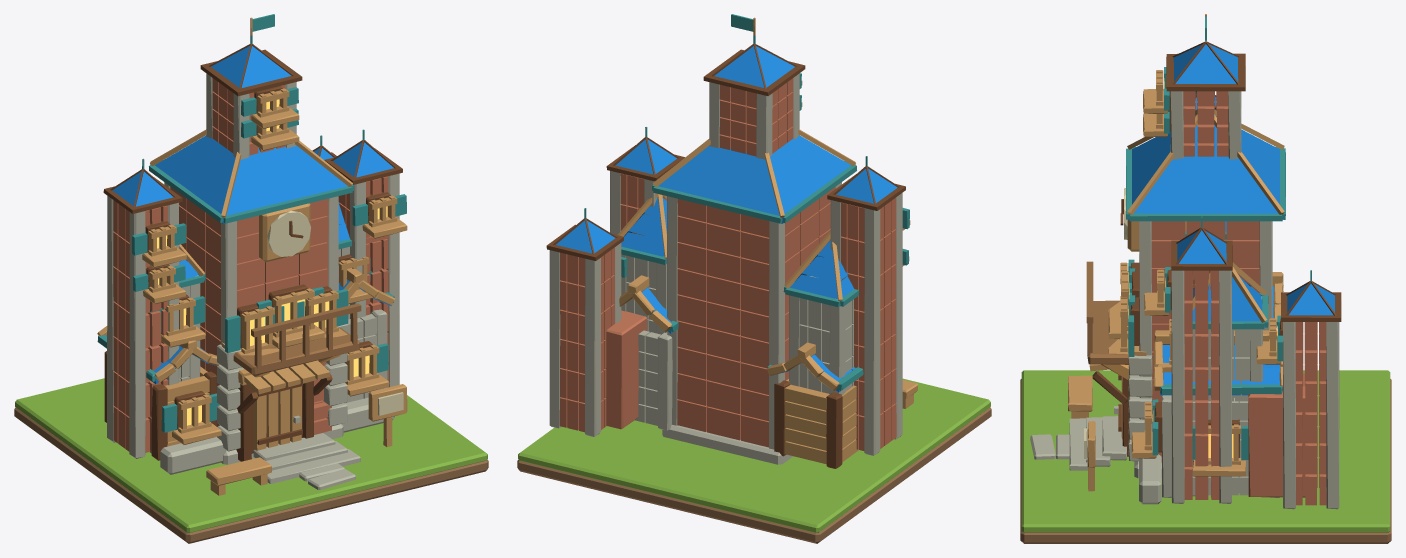
Rendered from town_hall_l12_active_LOD1.glb.
3 renders of one model, left to right at view 1: azimuth 30°, elevation 25°; view 2: azimuth 150°, elevation 25°; view 3: azimuth 270°, elevation 25°, orthographic. The views are drawn at different scales.
Visible parts, largest first — view 1: town_hall_l12_active_foundation.001, town_hall_l12_active_grass_tile.001, town_hall_l12_active_earth_tile.001, town_hall_l12_active_path_stone.005; view 2: town_hall_l12_active_foundation.001, town_hall_l12_active_grass_tile.001, town_hall_l12_active_earth_tile.001; view 3: town_hall_l12_active_foundation.001, town_hall_l12_active_grass_tile.001, town_hall_l12_active_earth_tile.001, town_hall_l12_active_path_stone.005.
Boxes of the visible parts, box(x1,y1,x2,y2) form: town_hall_l12_active_foundation.001: box(97, 14, 407, 495); town_hall_l12_active_grass_tile.001: box(15, 378, 487, 532); town_hall_l12_active_earth_tile.001: box(14, 407, 488, 543); town_hall_l12_active_path_stone.005: box(308, 469, 355, 489); town_hall_l12_active_foundation.001: box(546, 14, 917, 468); town_hall_l12_active_grass_tile.001: box(518, 378, 990, 532); town_hall_l12_active_earth_tile.001: box(517, 407, 991, 543); town_hall_l12_active_foundation.001: box(1068, 14, 1341, 509); town_hall_l12_active_grass_tile.001: box(1021, 370, 1390, 532); town_hall_l12_active_earth_tile.001: box(1020, 379, 1391, 543); town_hall_l12_active_path_stone.005: box(1030, 434, 1055, 459).
Size of the model in its own units: 3.6 by 4.85 by 3.6.
